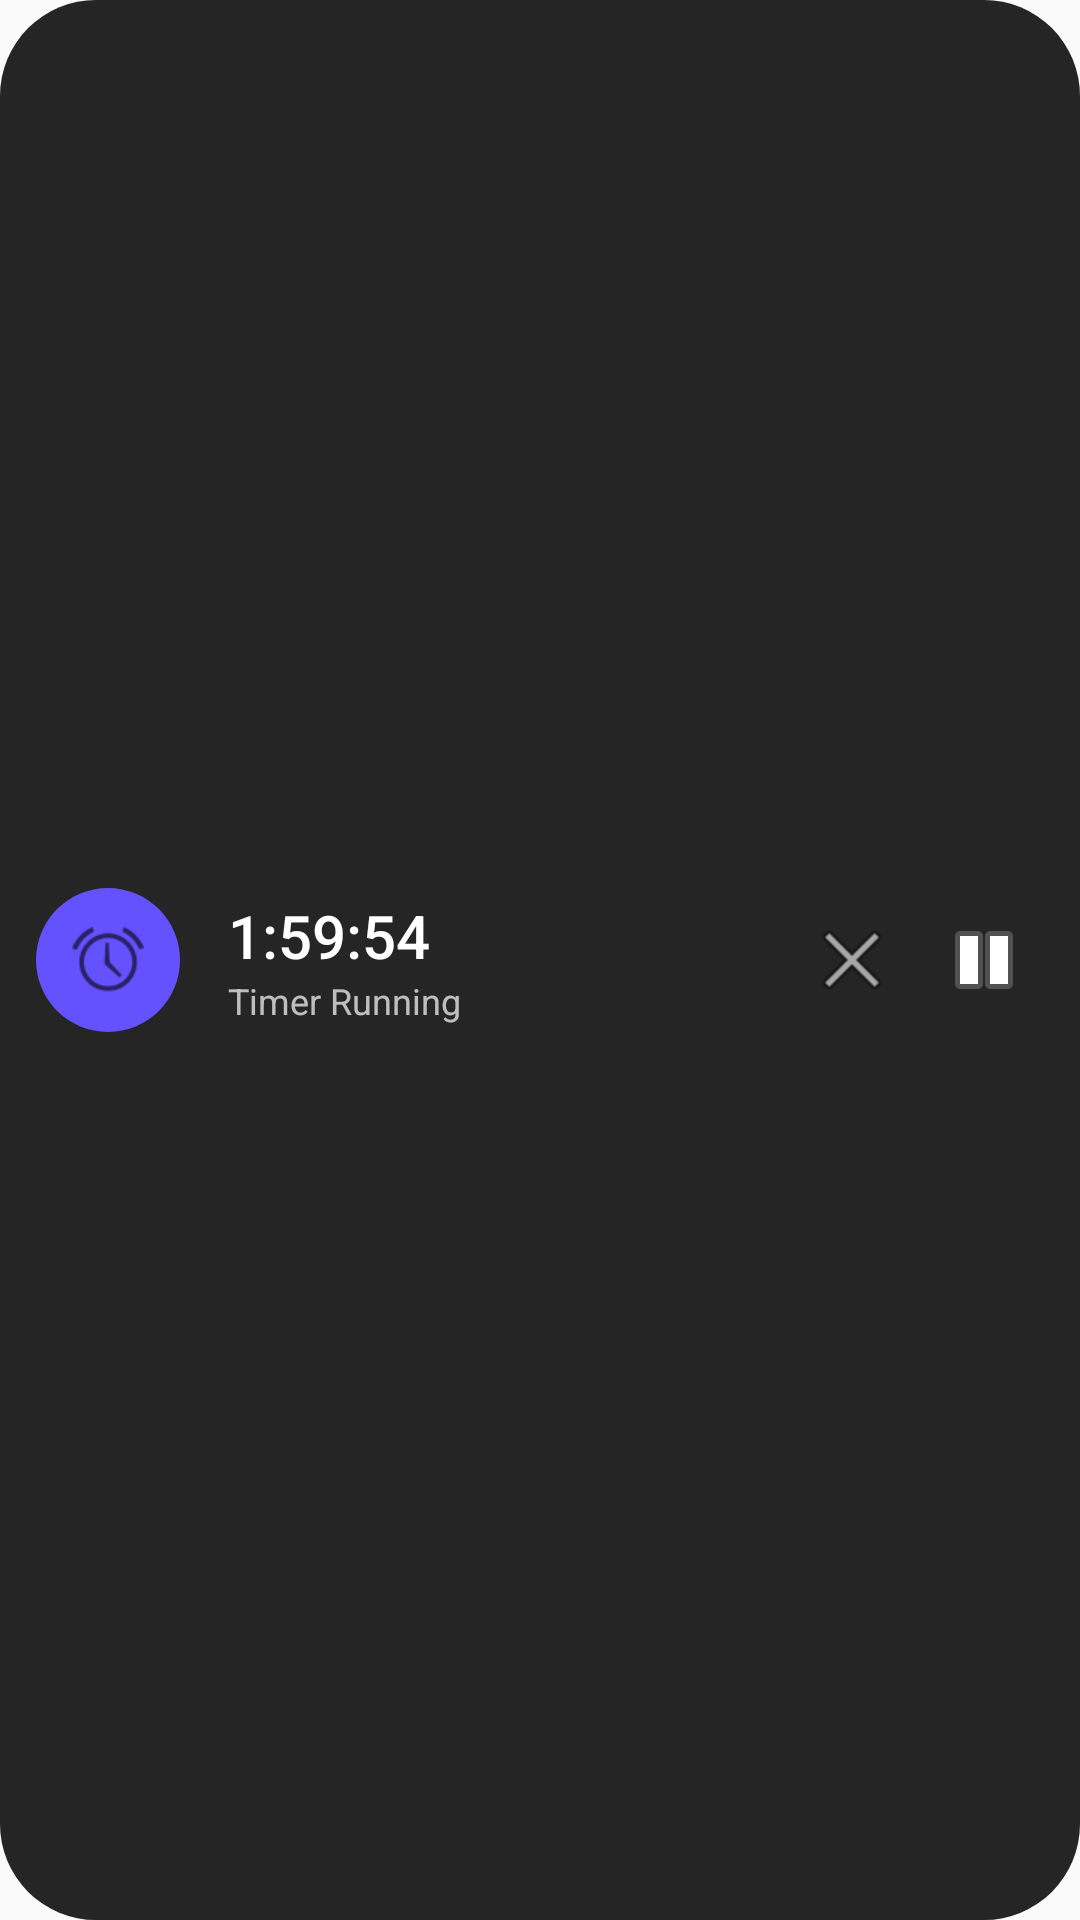

Icons on this 1080px×1920px Android screen, each with the point to tap as (x,y):
lock idle alarm: (108,959)
Pause: (984,960)
Stop: (852,960)
